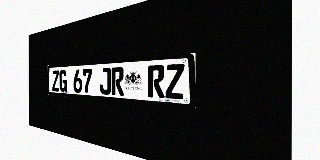6: (73, 69, 82, 93)
7: (82, 69, 92, 94)
G: (59, 70, 67, 92)
J: (100, 68, 111, 95)
R: (148, 65, 165, 98), (111, 67, 124, 96)
Z: (165, 64, 184, 99), (52, 70, 59, 92)
